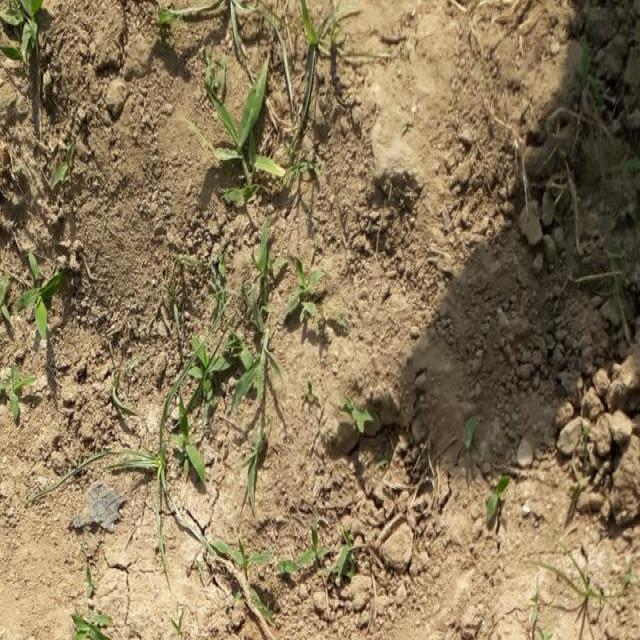weed: (163, 310, 272, 501), (198, 60, 299, 210)
